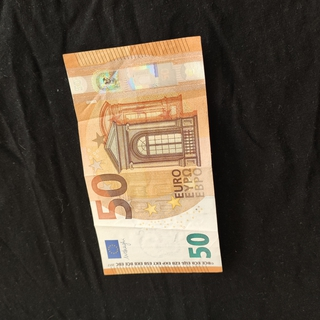50EUROFront: (61, 34, 224, 276)
